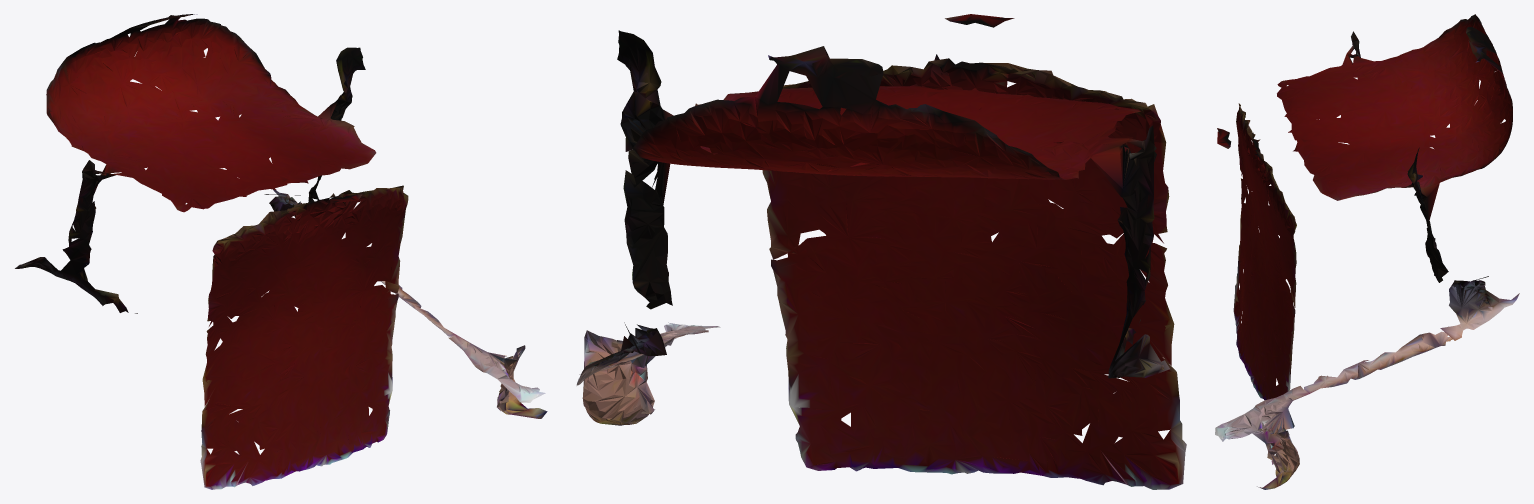
The model's file is CapturedChair.dae.
The picture shows the model from 3 angles, left to right: view 1: azimuth 30°, elevation 25°; view 2: azimuth 150°, elevation 25°; view 3: azimuth 270°, elevation 25°; orthographic projection. The views are drawn at different scales.
Parts seen in each view (by area): view 1: CapturedObject-node; view 2: CapturedObject-node; view 3: CapturedObject-node.
Part boxes in pixels (left/top/right/bottom): CapturedObject-node: left=15, top=14, right=547, bottom=489; CapturedObject-node: left=576, top=14, right=1186, bottom=489; CapturedObject-node: left=1215, top=14, right=1519, bottom=489.
Bounding box in the file's own units: 0.8514 × 0.6857 × 0.5584.
